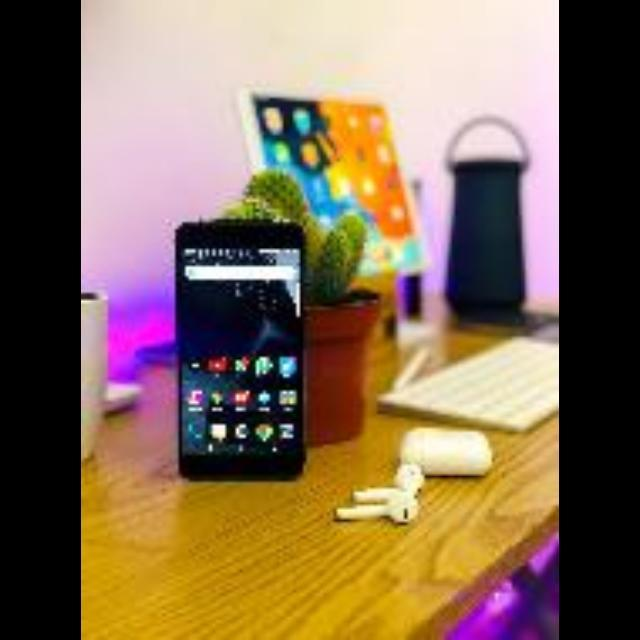Phone: (171, 226, 315, 482)
